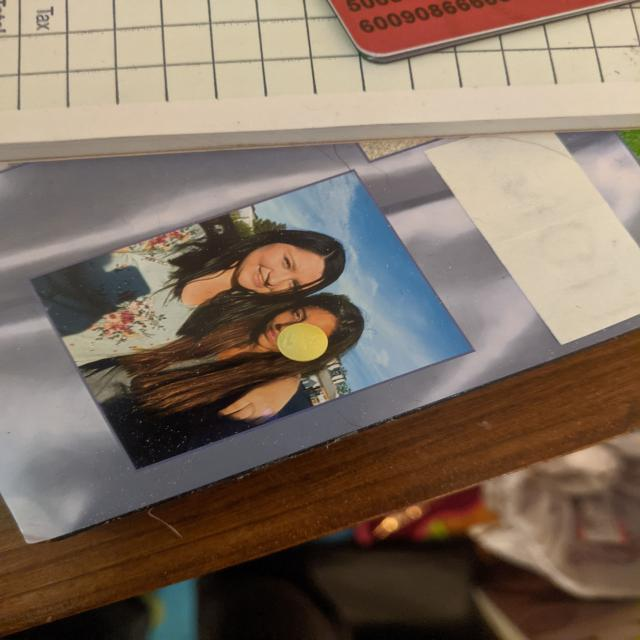non-organic waste: (276, 322, 329, 362)
